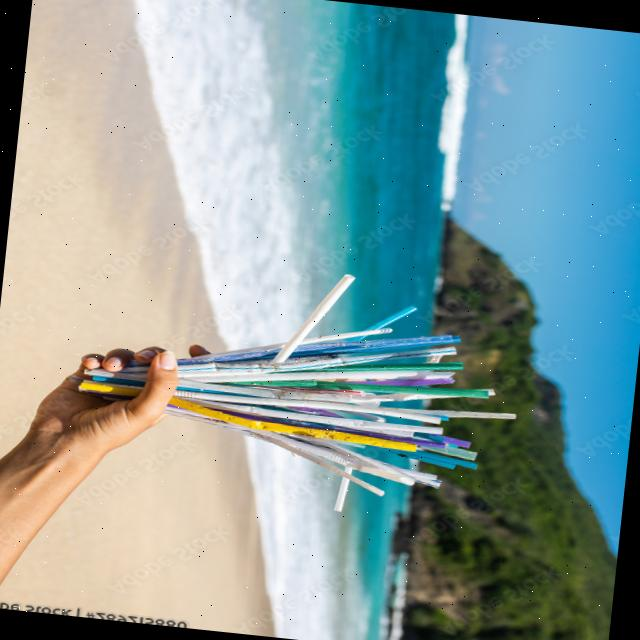plastic: (208, 416, 431, 453)
